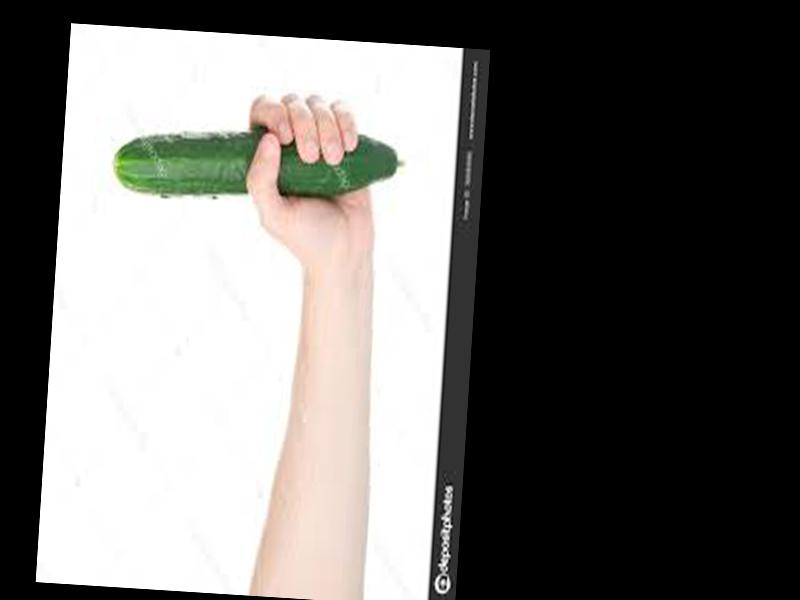Cucumber: (112, 118, 404, 210)
